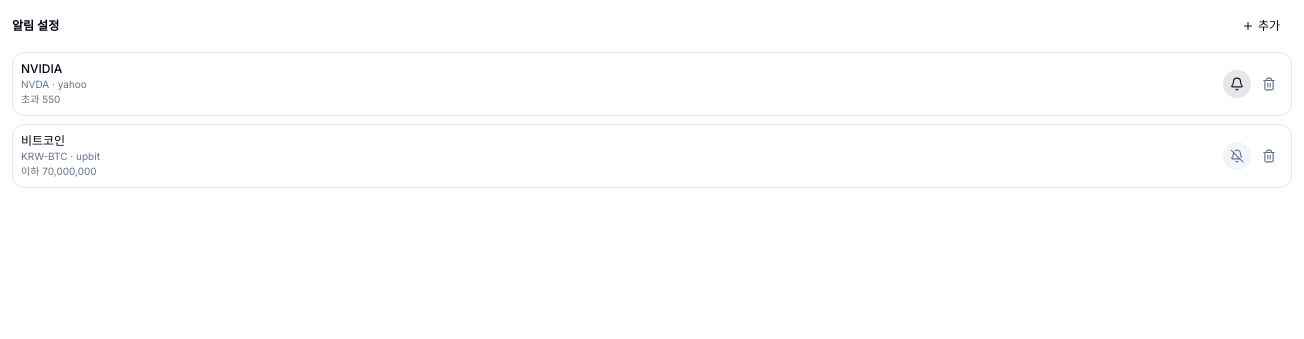
Test: AlertSettingsCard › + 추가 클릭 시 인라인 폼이 표시된다
Check: the list with test id "alert-rules-list" is shown, box [12,52,1292,188]
Click the button with aria-label "+ 추가" at (1261, 26), box [1230,12,1292,40]
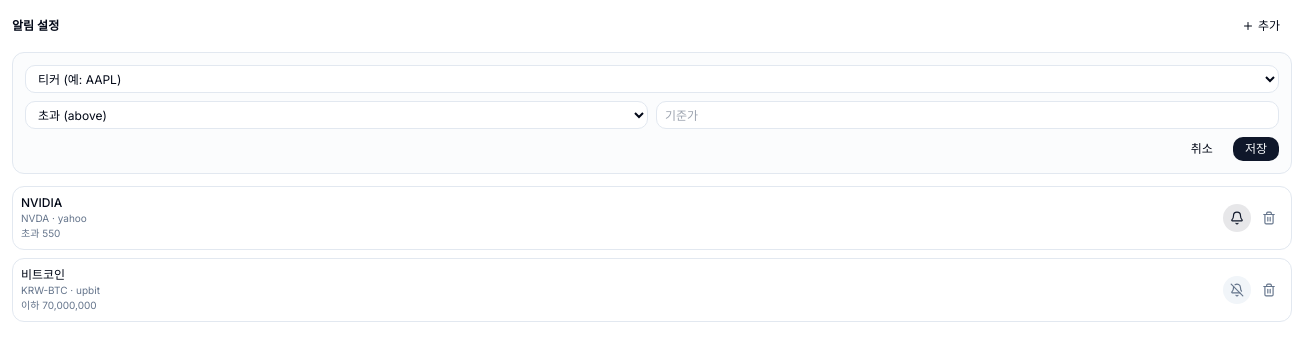
Check: the form with test id "add-alert-form" is shown, box [12,52,1292,174]
